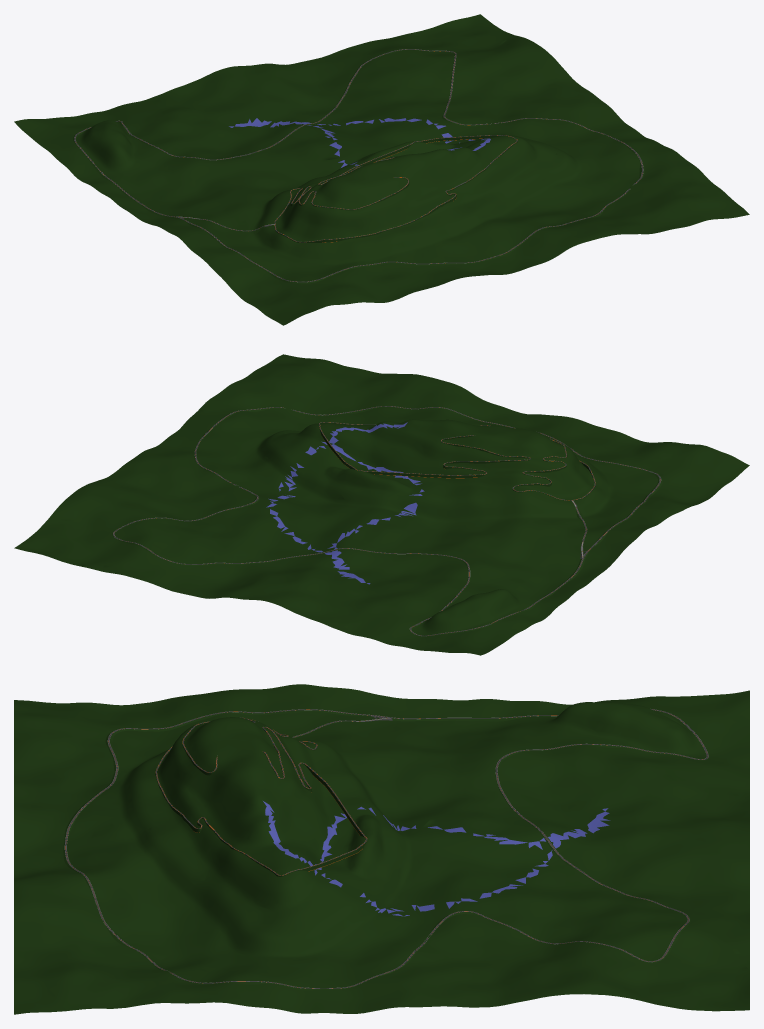
File: map1.fbx
3 renders of one model, top to bottom at view 1: azimuth 30°, elevation 25°; view 2: azimuth 150°, elevation 25°; view 3: azimuth 270°, elevation 25°, orthographic. The views are drawn at different scales.
Parts seen in each view (by area): view 1: terrain, mainroad.002; view 2: terrain, mainroad.002; view 3: terrain, mainroad.002.
Boxes of the visible parts, box(x1,y1,x2,y2) form: terrain: box(14, 14, 749, 325); mainroad.002: box(73, 49, 644, 283); terrain: box(14, 354, 749, 655); mainroad.002: box(112, 406, 662, 636); terrain: box(14, 684, 749, 1014); mainroad.002: box(63, 709, 709, 990).
Size of the model in its own units: 35254 by 4920 by 35254.
